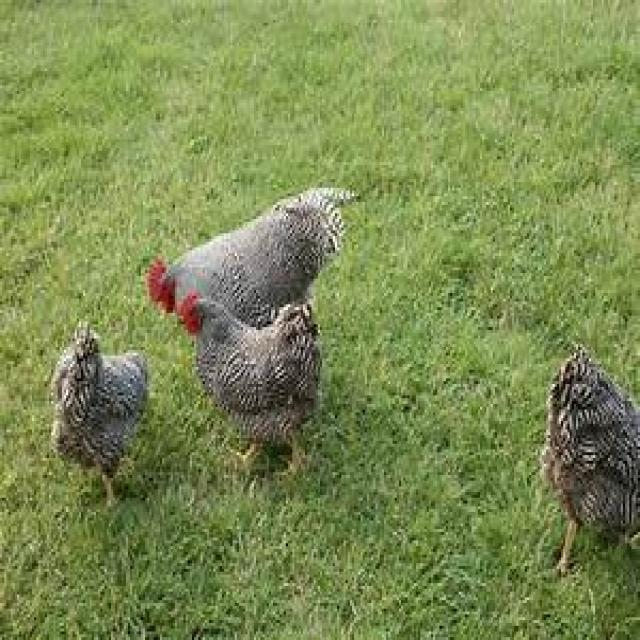hen: (146, 187, 353, 328), (176, 292, 321, 461), (541, 348, 640, 574), (51, 323, 148, 502)
